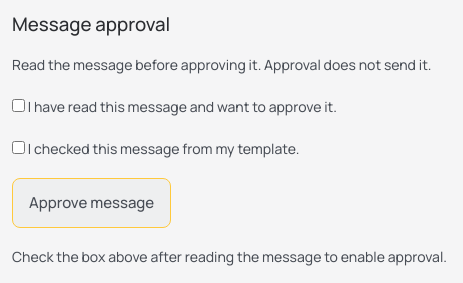
Scenario: approval needs content confirmation and explicit fallback acknowledgement
Later steps or results of the test are not shown.
Check: the button "Approve message" is disabled, box [12,178,171,228]
Click the checkbox labelled "I have read this message and want to approve it." at (18, 106), box [12,99,25,112]
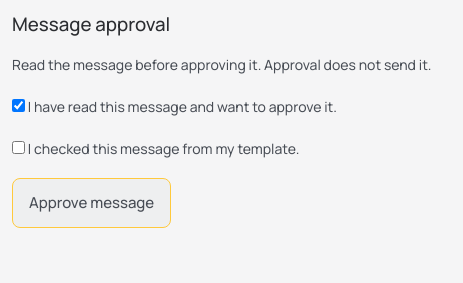
Check: the button "Approve message" is disabled, box [12,178,171,228]
Click the checkbox labelled "I checked this message from my template." at (18, 148), box [12,141,25,154]
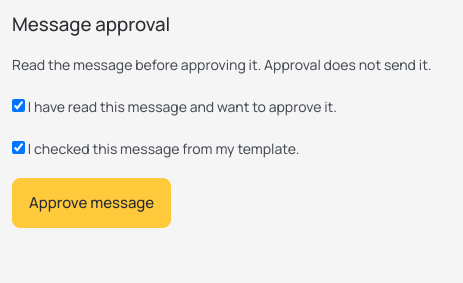
Check: the button "Approve message" is enabled, box [12,178,171,228]
